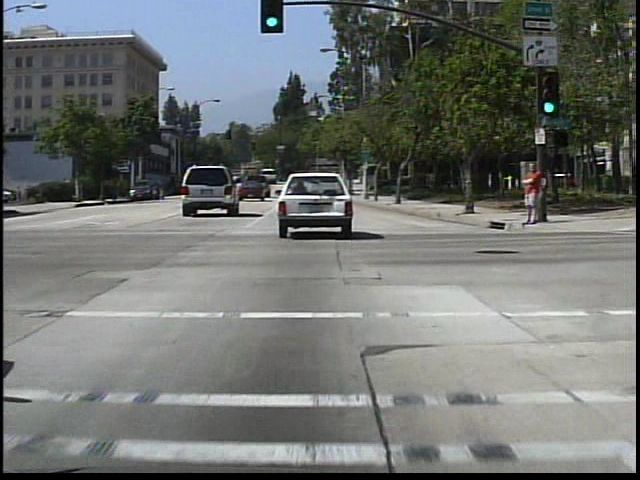person: (518, 159, 545, 228)
